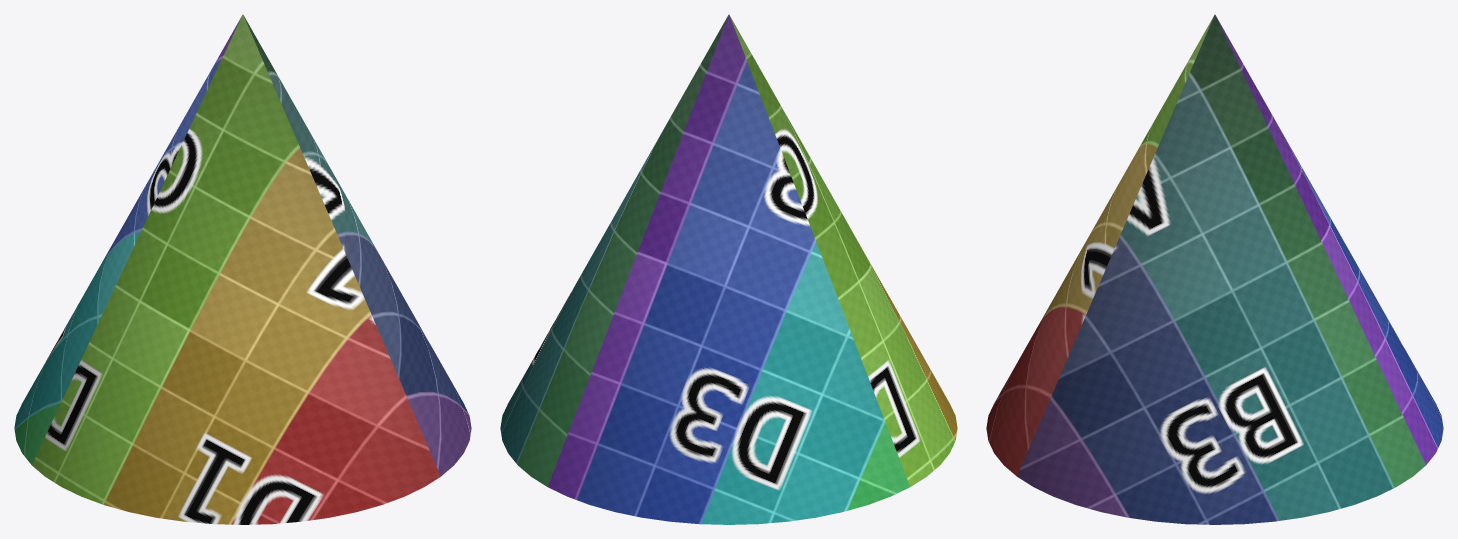
File: Prim_Cone.glb
The picture shows the model from 3 angles, left to right: view 1: azimuth 30°, elevation 25°; view 2: azimuth 150°, elevation 25°; view 3: azimuth 270°, elevation 25°; orthographic projection.
Visible parts, largest first — view 1: Prim_Cone; view 2: Prim_Cone; view 3: Prim_Cone.
Part boxes in pixels (left/top/right/bottom): Prim_Cone: left=14, top=14, right=471, bottom=524; Prim_Cone: left=500, top=14, right=957, bottom=524; Prim_Cone: left=986, top=14, right=1443, bottom=524.
Bounding box in the file's own units: 1 × 1 × 1.
Materials: 1 (1 with a texture image).
